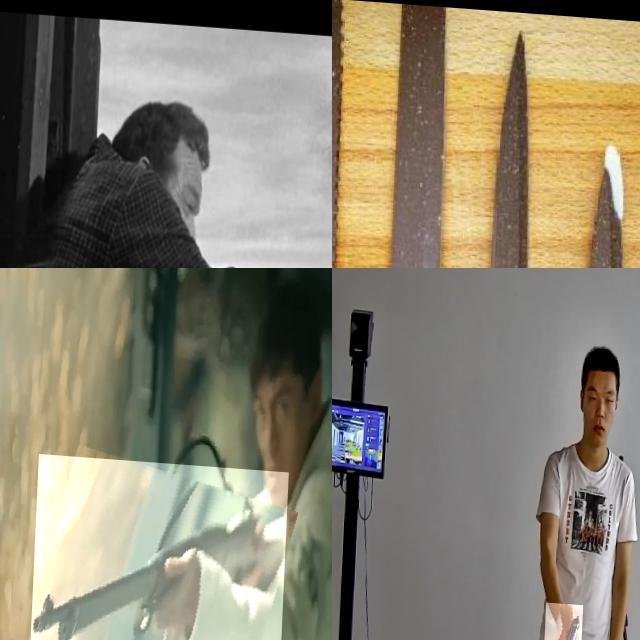-: (366, 0, 467, 268), (472, 5, 551, 268), (332, 0, 409, 268), (561, 87, 640, 268), (332, 0, 377, 268)
gun-knife-thesis - v11 Yolov5 augmented: (32, 452, 291, 640), (546, 598, 586, 640)
